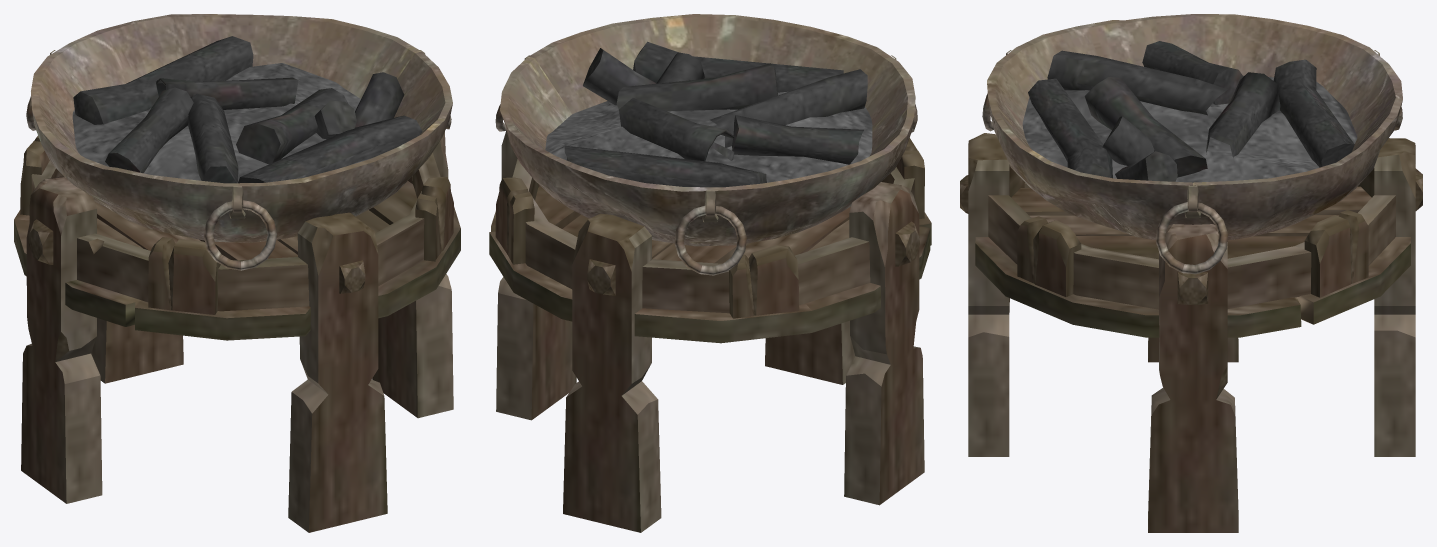
File: VIK_PRO_Brasero_Medium_Metal_02A_LOD0-transformed.glb
The picture shows the model from 3 angles, left to right: view 1: azimuth 30°, elevation 25°; view 2: azimuth 150°, elevation 25°; view 3: azimuth 270°, elevation 25°; orthographic projection.
Visible parts, largest first — view 1: default; view 2: default; view 3: default.
Part boxes in pixels (<box>): default: <box>14,14,460,532</box>; default: <box>489,14,931,532</box>; default: <box>960,14,1422,532</box>.
Bounding box in the file's own units: 0.7899 × 0.6489 × 0.7743.
3 materials, 3 textured.
